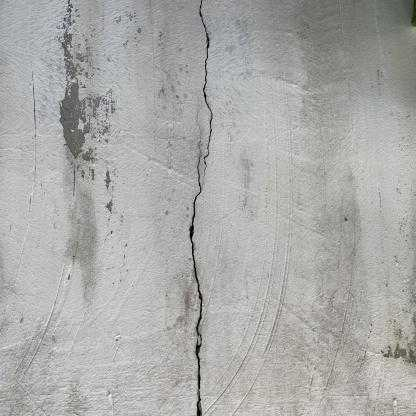crack: (189, 104, 204, 415), (198, 0, 214, 183)
